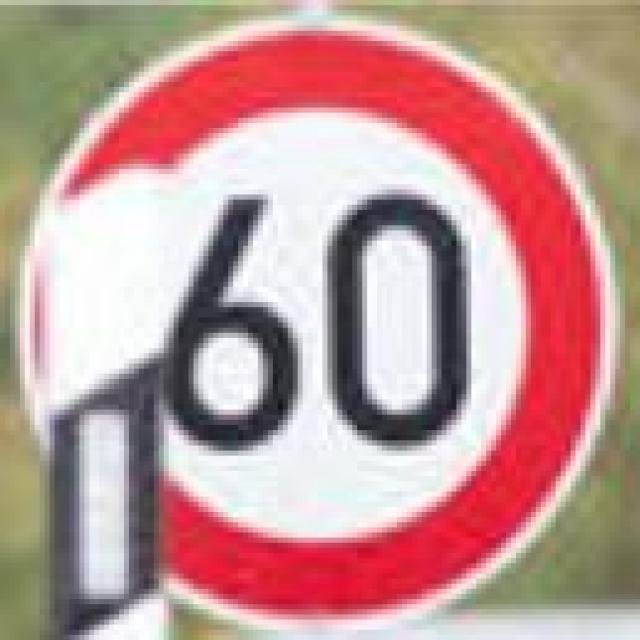traffic_sign: (5, 21, 610, 620)
